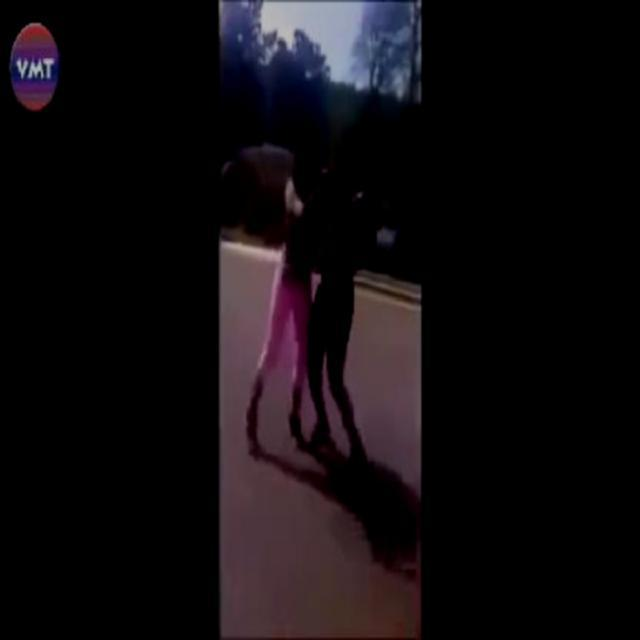fight: (261, 136, 381, 372)
